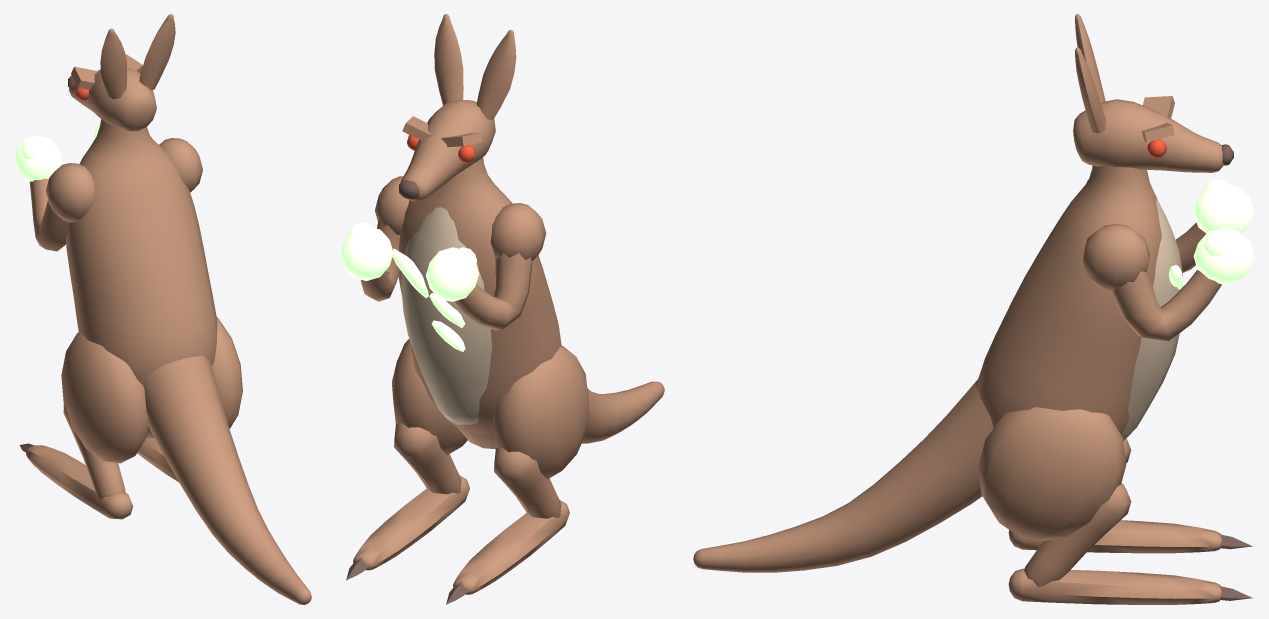
The model's file is Kangaroo.glb.
3 views of the same model, side by side, from view 1: azimuth 30°, elevation 25°; view 2: azimuth 150°, elevation 25°; view 3: azimuth 270°, elevation 25° (orthographic). The views are drawn at different scales.
Parts seen in each view (by area): view 1: Body, Head, Arms; view 2: Body, Head, Arms; view 3: Body, Head, Arms.
Part boxes in pixels (x1,y1,x2,y2): Body: (19, 119, 311, 604); Head: (68, 14, 175, 131); Arms: (14, 124, 100, 251); Body: (346, 157, 664, 604); Head: (399, 14, 516, 201); Arms: (340, 219, 532, 330); Body: (693, 165, 1252, 604); Head: (1073, 14, 1233, 172); Arms: (1111, 179, 1254, 341).
Size of the model in its own units: 0.72 by 2.06 by 1.93.
